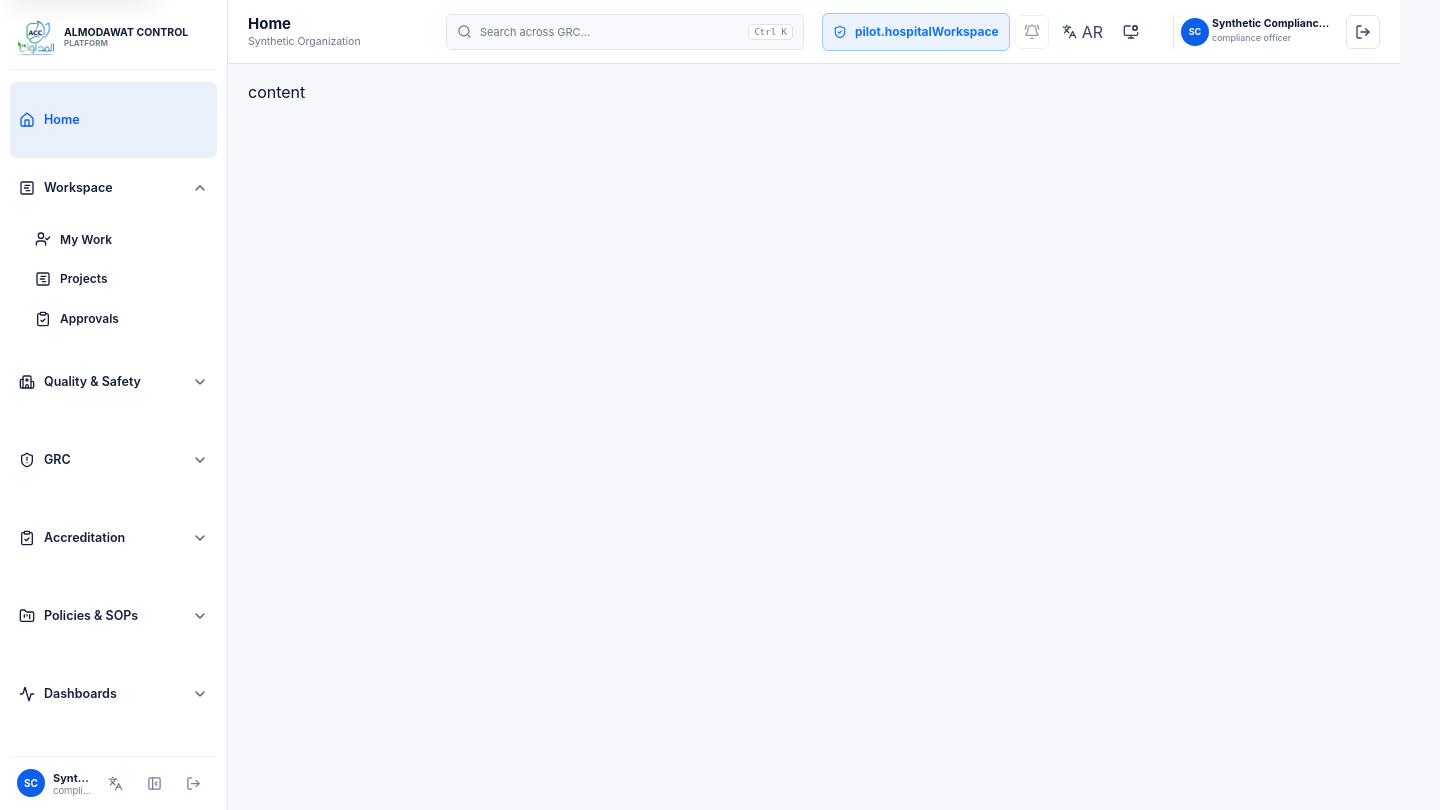
Scenario: F4 H3 Projects shell access alignment › shows the allowed Projects child without redirecting through the forbidden Workspace parent
expect the button "Projects" is shown: met, box [26,260,217,298]
Click the button "Workspace": (114, 188) [10,160,217,216]
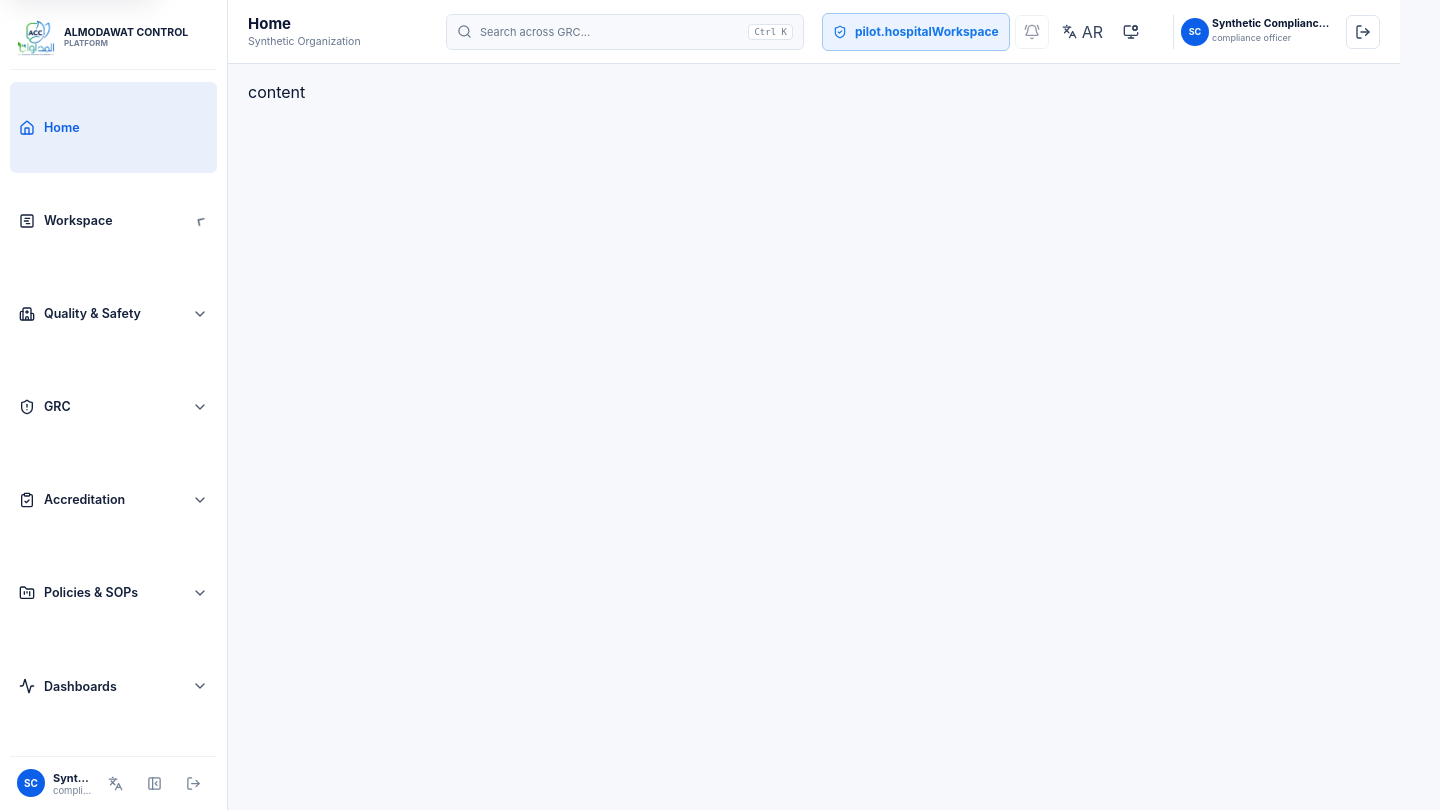
expect the button "Projects" is gone: met
Click the button "Workspace": (114, 221) [10,175,217,266]
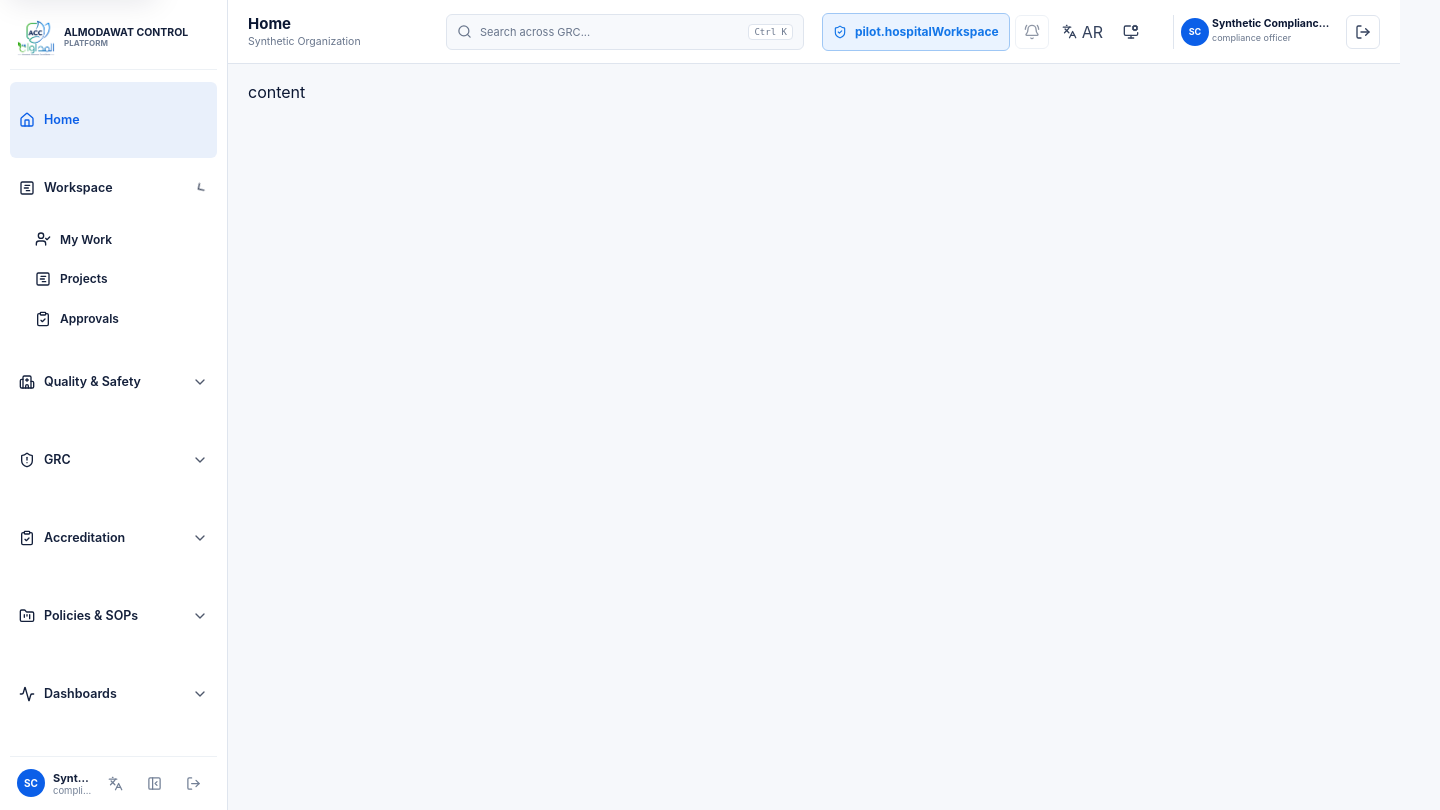
expect the button "Projects" is shown: met, box [26,260,217,298]
